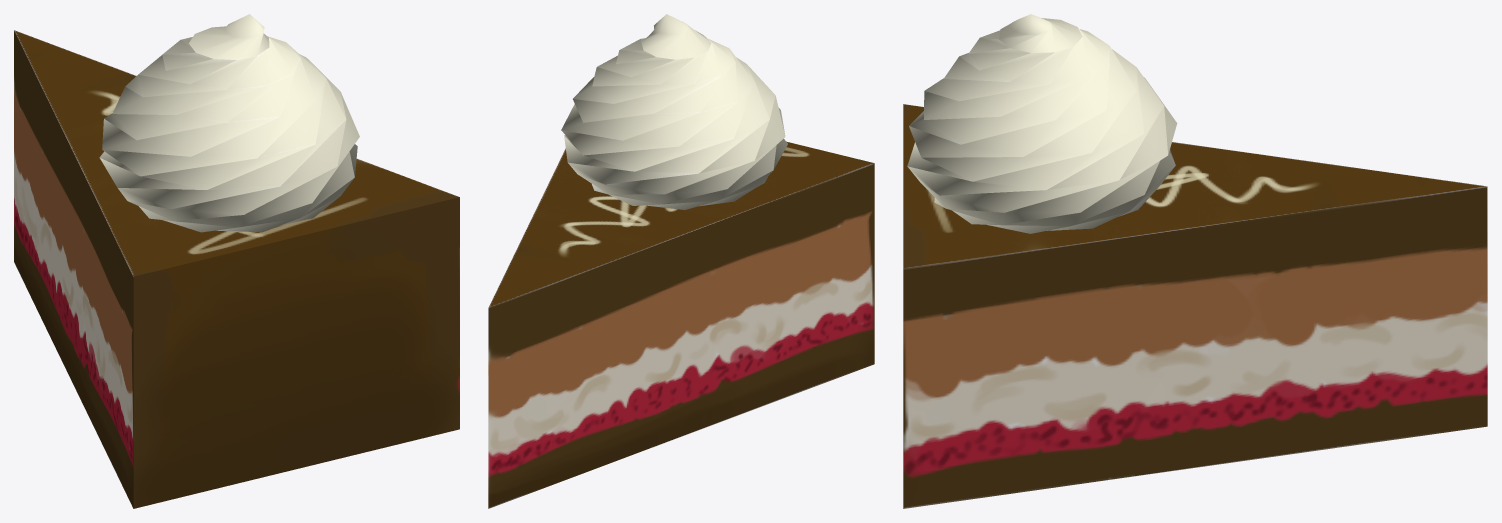
Rendered from taartpunt unity.fbx.
The picture shows the model from 3 angles, left to right: view 1: azimuth 30°, elevation 25°; view 2: azimuth 150°, elevation 25°; view 3: azimuth 270°, elevation 25°; orthographic projection. The views are drawn at different scales.
Visible parts, largest first — view 1: pCylinder2; view 2: pCylinder2; view 3: pCylinder2.
Boxes of the visible parts, left/top/right/bottom form: pCylinder2: left=14, top=14, right=459, bottom=508; pCylinder2: left=488, top=14, right=874, bottom=508; pCylinder2: left=903, top=14, right=1487, bottom=508.
Size of the model in its own units: 2.41 by 2.86 by 3.61.
